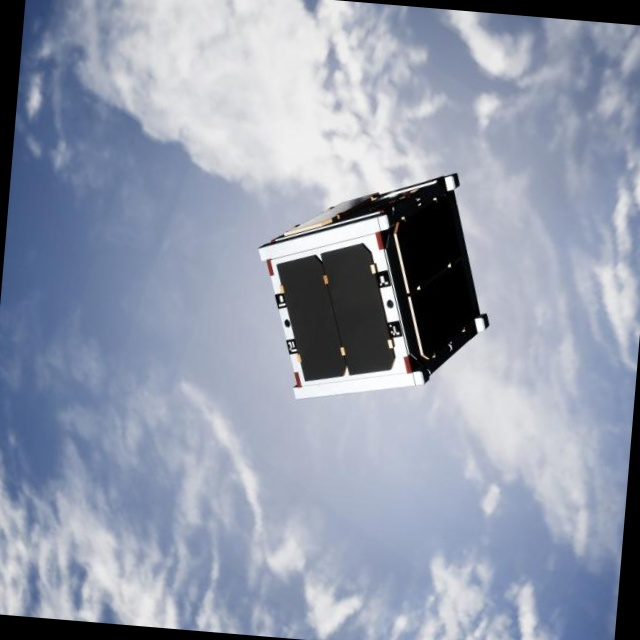satellite: (236, 158, 505, 416)
